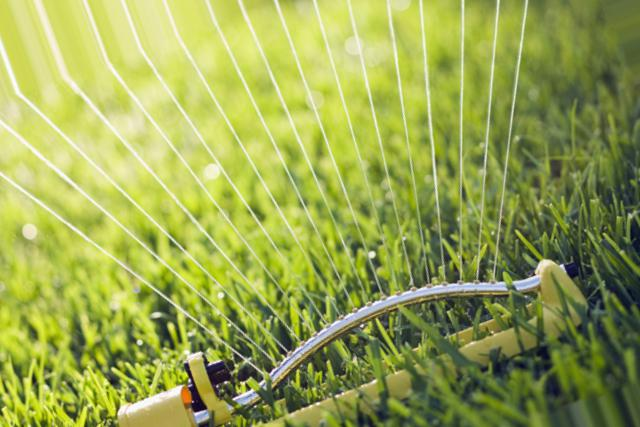patch: (1, 1, 31, 32)
